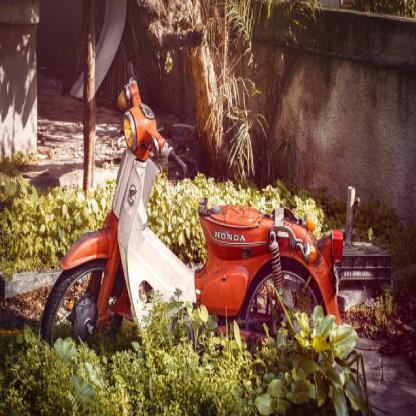Motorcycle: (38, 63, 348, 339)
